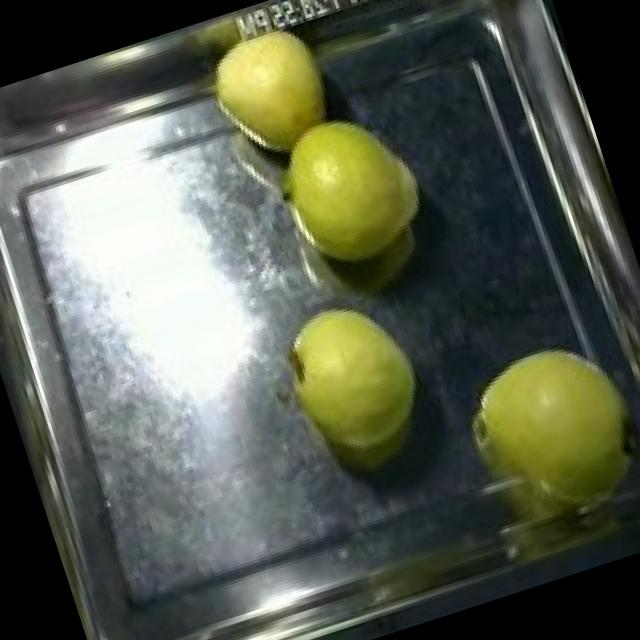Fruit: (438, 316, 640, 545), (254, 90, 446, 289), (264, 280, 442, 477), (182, 0, 356, 183)
